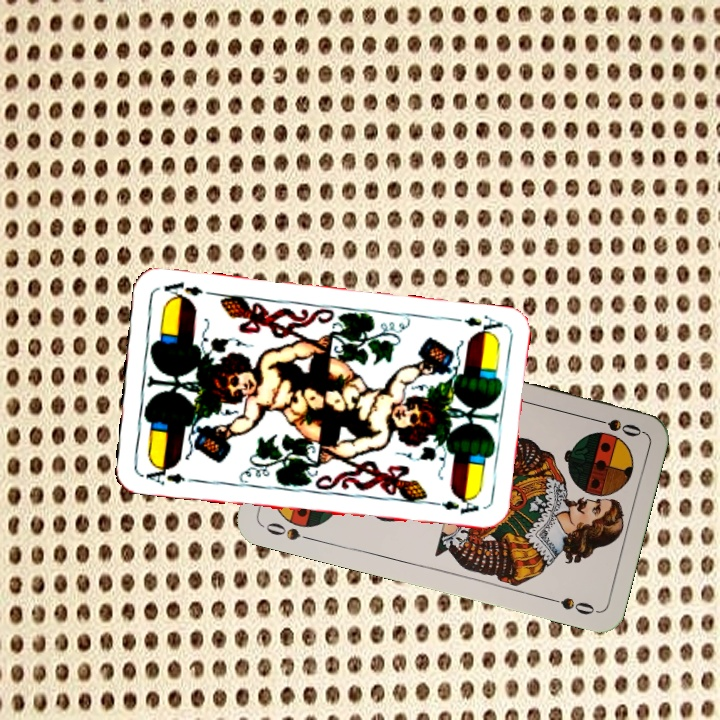EA: (446, 311, 505, 339), (137, 459, 188, 488)
SO: (586, 413, 644, 440), (259, 518, 317, 544)
